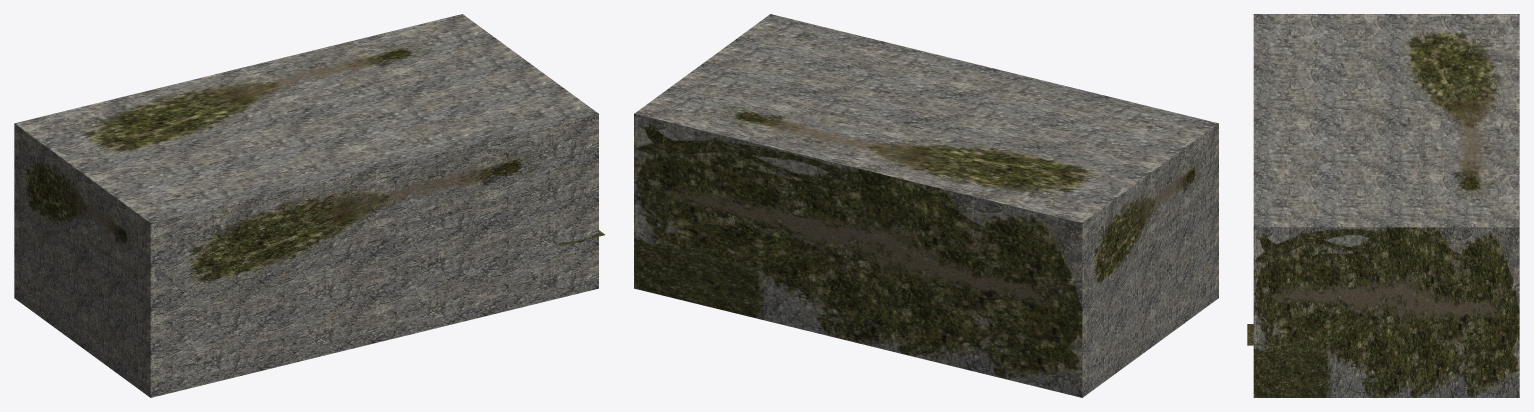
Rendered from underwater_cave.DAE.
3 renders of one model, left to right at view 1: azimuth 30°, elevation 25°; view 2: azimuth 150°, elevation 25°; view 3: azimuth 270°, elevation 25°, orthographic. The views are drawn at different scales.
Visible parts, largest first — view 1: bounds; view 2: bounds; view 3: bounds.
Part boxes in pixels (left/top/right/bottom): bounds: left=14, top=14, right=598, bottom=397; bounds: left=634, top=14, right=1218, bottom=397; bounds: left=1253, top=14, right=1519, bottom=397.
Bounding box in the file's own units: 126 × 67.33 × 46.48.
